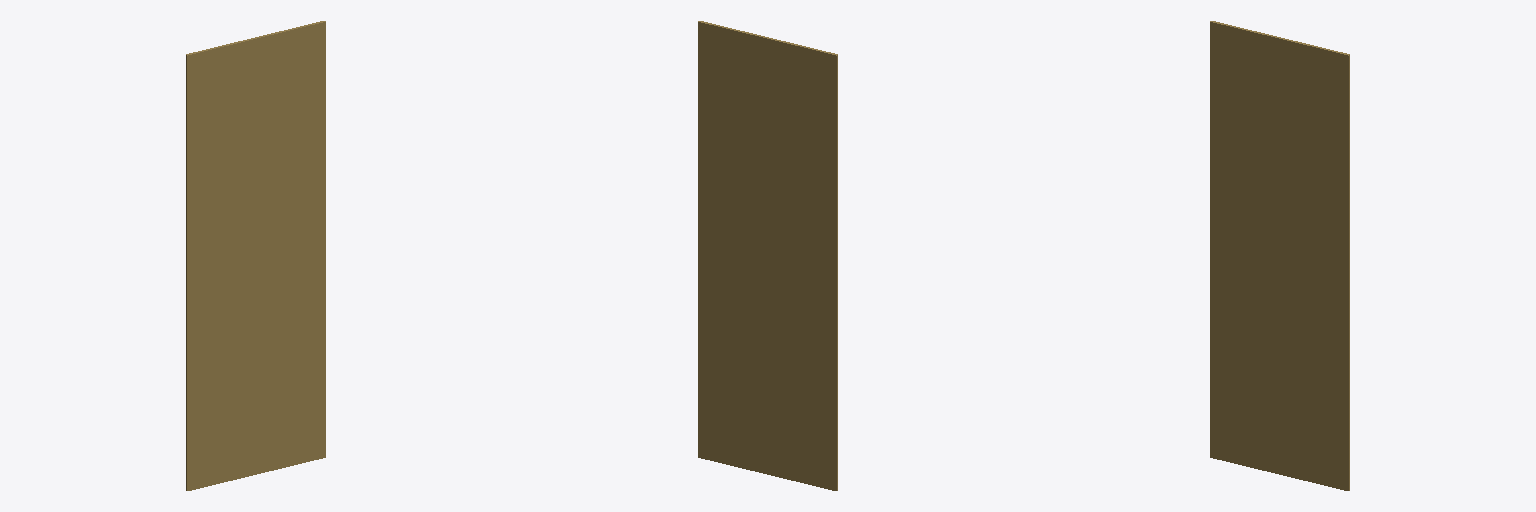
The robot description file, URDF, robot "right":
<robot name="right">
  <link name="right_base_link">
    <contact>
      <lateral_friction value="0.5"/>
      <rolling_friction value="0.0"/>
      <contact_cfm value="0.0"/>
      <contact_erp value="1.0"/>
    </contact>
    <inertial>
      <origin rpy="0 0 0" xyz="0 0 0"/>
      <mass value="0"/>
      <inertia ixx="0" ixy="0" ixz="0" iyy="0" iyz="0" izz="0"/>
    </inertial>
    <visual>
      <origin rpy="0 0 0" xyz="0 0 0"/>
      <geometry>
        <mesh filename="../meshes/right.obj" scale="0.0009 0.0009 0.0009"/>
      </geometry>
      <material name="wood_material">
        <color rgba="0.65 0.56 0.36 1"/>
      </material>
    </visual>
    <collision>
      <origin rpy="0 0 0" xyz="0 0 0"/>
      <geometry>
        <mesh filename="../meshes/right.obj" scale="0.0009 0.0009 0.0009"/>
      </geometry>
    </collision>
  </link>
</robot>

--- Facts derived from the render (not from the file) ---
Views: 3 orthographic renders of the robot side by side, from view 1: azimuth 30°, elevation 25°; view 2: azimuth 150°, elevation 25°; view 3: azimuth 330°, elevation 25°.
Robot: right — 1 links, 0 joints (none); root link right_base_link; default pose: every joint at zero.
Visible links, largest first — view 1: right_base_link; view 2: right_base_link; view 3: right_base_link.
Boxes of the visible links, box(x1,y1,x2,y2) form: right_base_link: box(186, 21, 325, 490); right_base_link: box(698, 21, 837, 490); right_base_link: box(1210, 21, 1349, 490).
Size in the robot's own frame: 0.45 by 0.009 by 1.35 metres.
1 mesh visuals loaded from 1 distinct referenced files (1 OBJ).